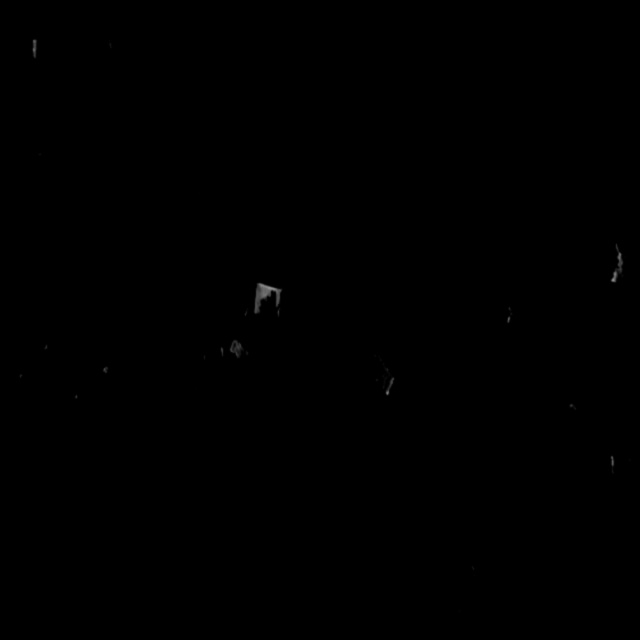large_debris: (429, 556, 499, 632), (4, 576, 52, 638), (249, 273, 295, 319), (365, 352, 397, 415), (606, 229, 629, 299), (332, 314, 365, 359), (487, 305, 524, 341), (598, 436, 625, 484), (227, 337, 253, 374), (357, 157, 382, 187)
